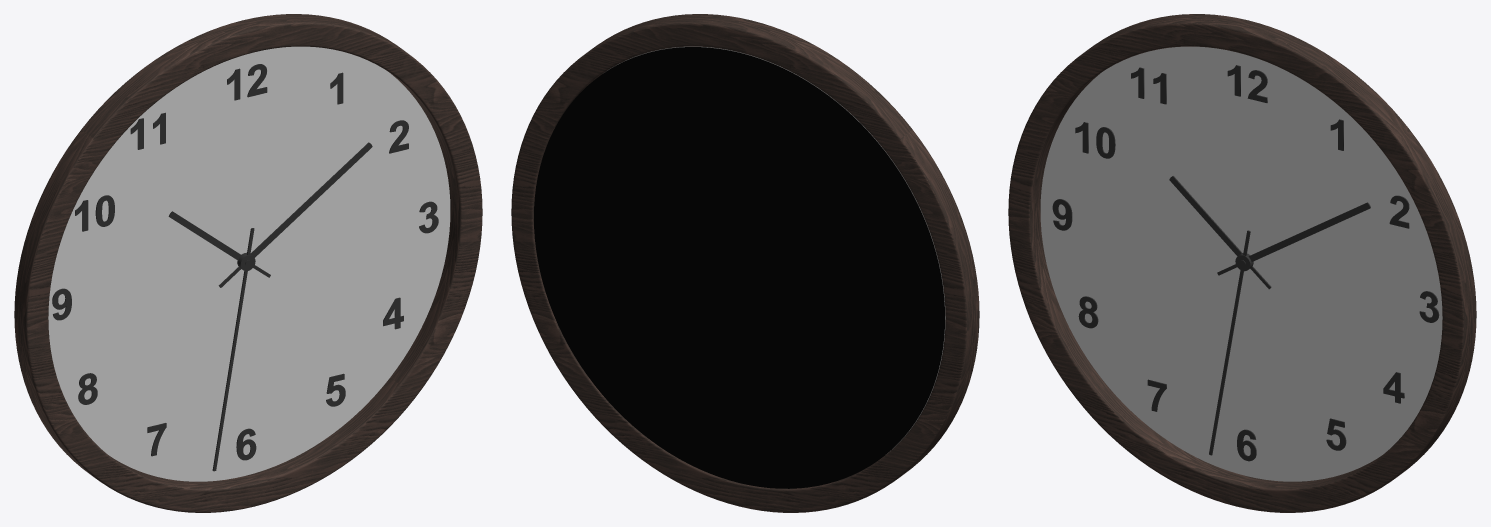
File: wall_clock.glb
3 renders of one model, left to right at view 1: azimuth 30°, elevation 25°; view 2: azimuth 150°, elevation 25°; view 3: azimuth 330°, elevation 25°, orthographic.
Parts seen in each view (by area): view 1: Base_0, Frame_3, Numbers_7, Minutes_6, Seconds_8, Hours_5; view 2: Base.001_1, Frame_3, Base_0; view 3: Base_0, Frame_3, Numbers_7, Seconds_8, Minutes_6, Hours_5.
Part boxes in pixels (box(x1,y1,x2,y2)): Base_0: box(48, 46, 450, 481); Frame_3: box(14, 14, 482, 512); Numbers_7: box(52, 64, 438, 460); Minutes_6: box(218, 142, 372, 287); Seconds_8: box(212, 228, 255, 471); Hours_5: box(168, 211, 270, 277); Base.001_1: box(534, 47, 944, 488); Frame_3: box(511, 14, 979, 512); Base_0: box(607, 46, 945, 453); Base_0: box(1040, 46, 1442, 481); Frame_3: box(1008, 14, 1476, 512); Numbers_7: box(1052, 65, 1439, 461); Seconds_8: box(1209, 230, 1251, 455); Minutes_6: box(1217, 202, 1370, 275); Hours_5: box(1169, 176, 1271, 289).
Size of what is drawn, in the model's own units: 0.3694 by 0.3694 by 0.0186.
4 materials, 1 textured.
